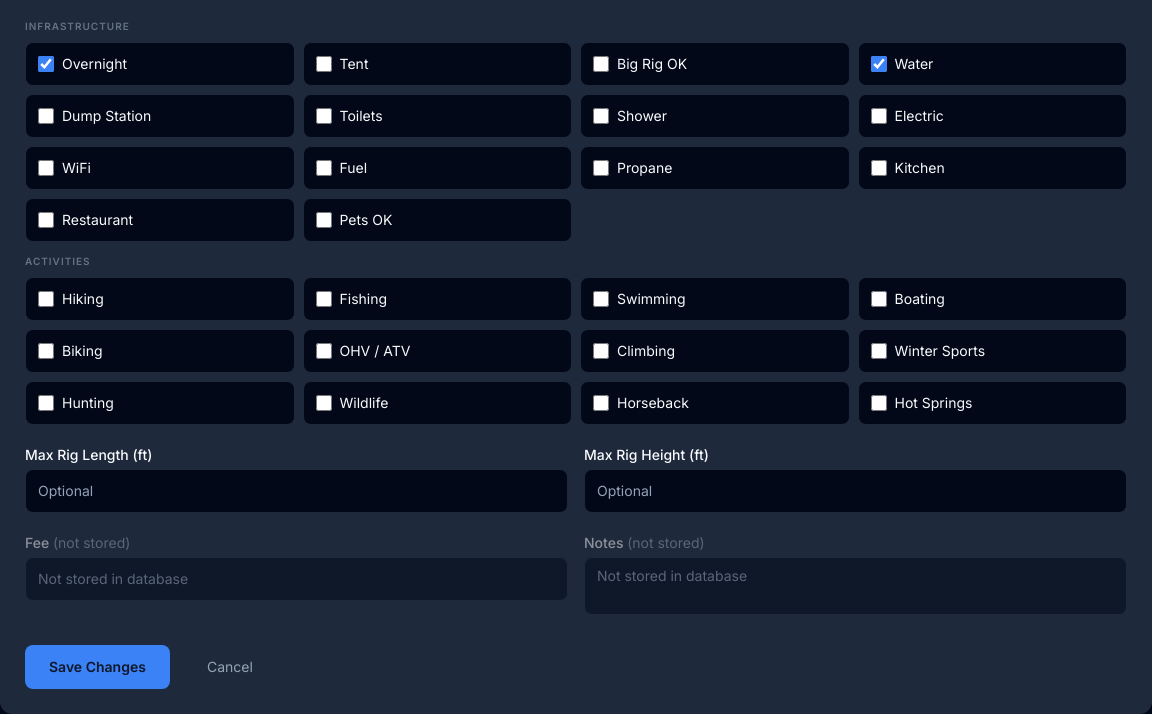
EditPinForm › "Save Changes" and "Cancel" buttons are disabled while mutation is pending (6.11)
(page scrolled)
Click the button "Save Changes" at point(97, 667), box [25,645,170,689]
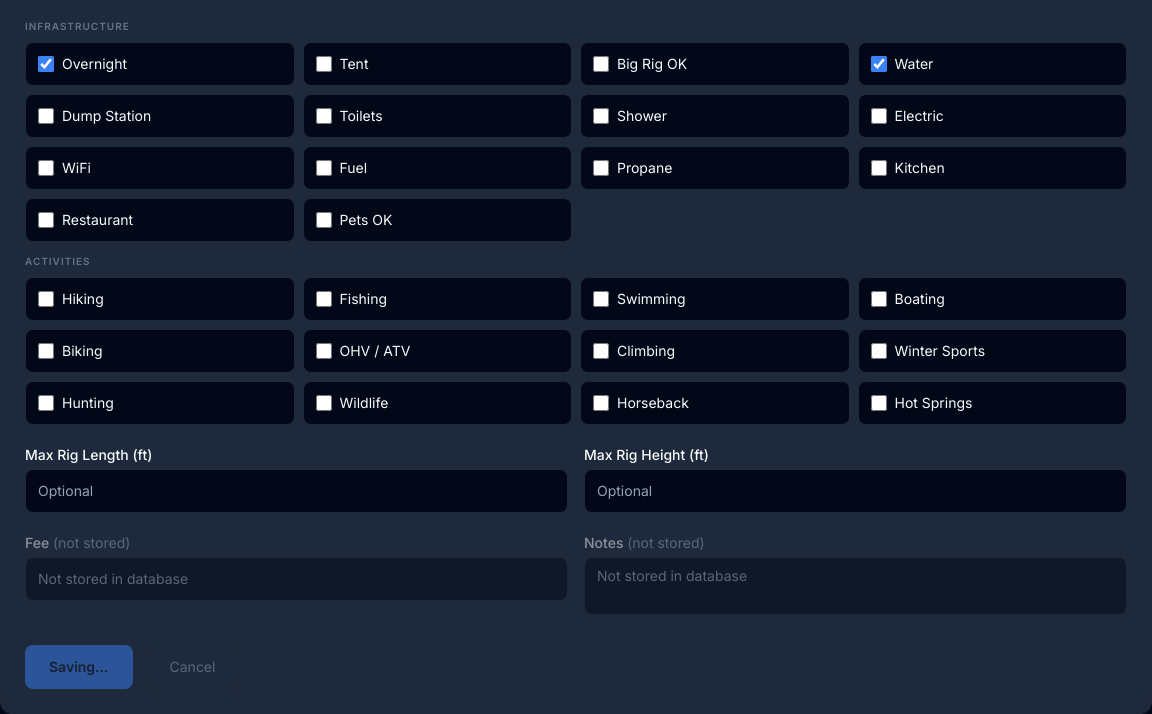
Now the button named "save changes" is disabled, box [25,645,132,689]
Now the button "Cancel" is disabled, box [144,645,240,689]
